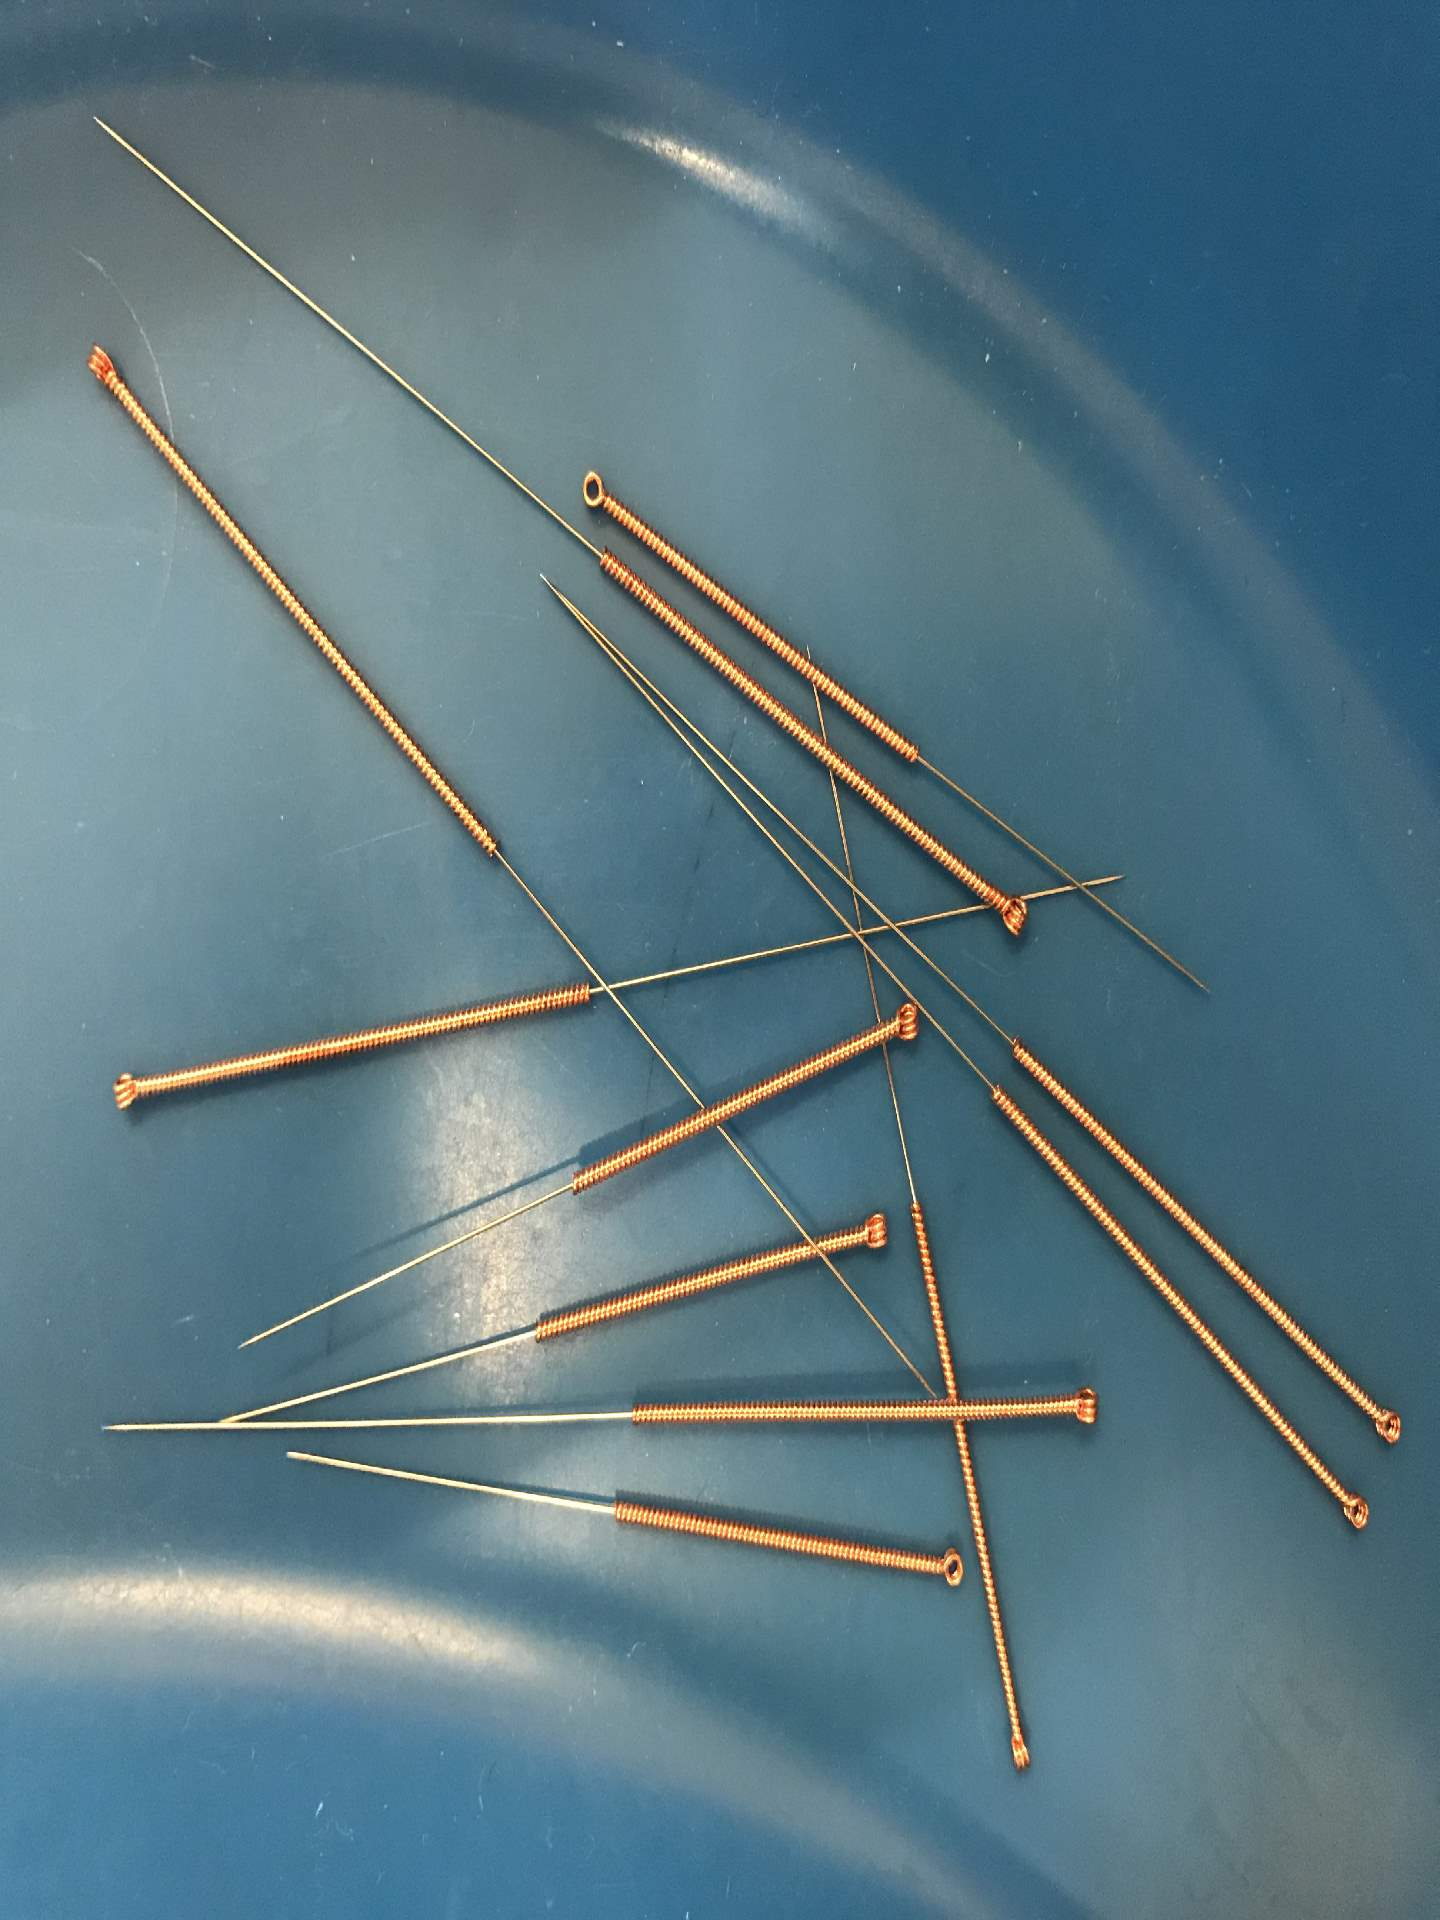needle: (1044, 1370, 1116, 1442), (973, 880, 1041, 946), (70, 333, 132, 404), (1352, 1388, 1413, 1454), (94, 1058, 154, 1123), (917, 1536, 976, 1603), (871, 990, 932, 1054), (1327, 1479, 1383, 1547), (564, 458, 623, 522), (844, 1200, 900, 1262), (992, 1720, 1044, 1784)
